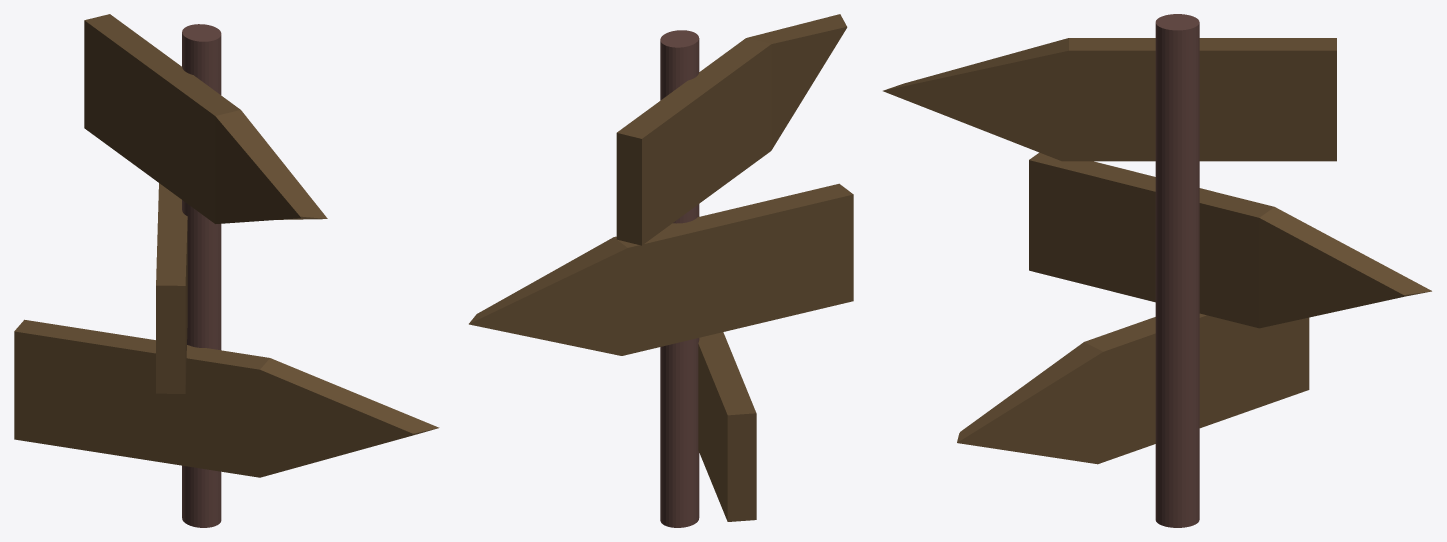
File: wegwijzer.fbx
3 renders of one model, left to right at view 1: azimuth 30°, elevation 25°; view 2: azimuth 150°, elevation 25°; view 3: azimuth 270°, elevation 25°, orthographic. The views are drawn at different scales.
Parts seen in each view (by area): view 1: Cylinder.003, Cylinder.001, Cylinder, Cylinder.002; view 2: Cylinder.002, Cylinder.001, Cylinder, Cylinder.003; view 3: Cylinder.001, Cylinder.002, Cylinder.003, Cylinder.
Boxes of the visible parts, <box> form: Cylinder.003: <box>14,319,439,477</box>; Cylinder.001: <box>84,14,327,223</box>; Cylinder: <box>182,24,221,527</box>; Cylinder.002: <box>156,183,187,393</box>; Cylinder.002: <box>469,183,853,355</box>; Cylinder.001: <box>616,14,847,245</box>; Cylinder: <box>660,30,699,527</box>; Cylinder.003: <box>698,332,756,521</box>; Cylinder.001: <box>883,38,1336,161</box>; Cylinder.002: <box>1029,152,1431,328</box>; Cylinder.003: <box>957,313,1309,464</box>; Cylinder: <box>1155,14,1199,527</box>.
Size of the model in its own units: 139 by 247 by 247.
